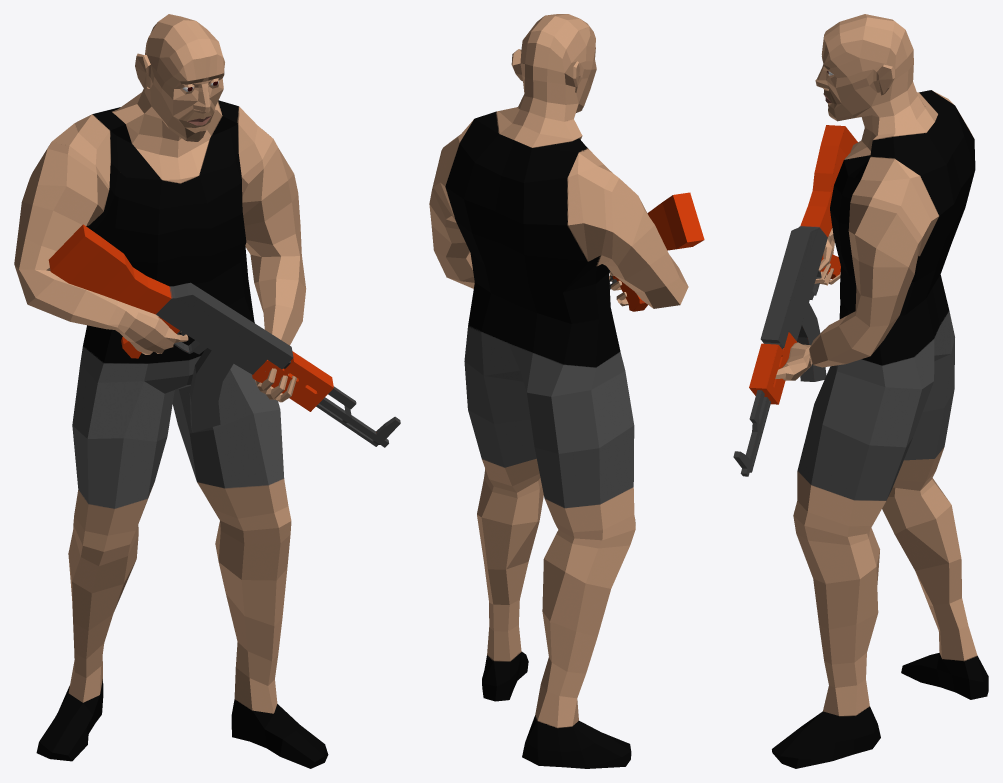
Rendered from PlayerIdle(197).obj.
3 views of the same model, side by side, from view 1: azimuth 30°, elevation 25°; view 2: azimuth 150°, elevation 25°; view 3: azimuth 270°, elevation 25° (orthographic). The views are drawn at different scales.
Visible parts, largest first — view 1: Plane002, Object001; view 2: Plane002, Object001; view 3: Plane002, Object001.
Boxes of the visible parts, bbox=[...] form: Plane002: bbox=[14, 14, 328, 768]; Object001: bbox=[48, 224, 400, 447]; Plane002: bbox=[429, 14, 688, 768]; Object001: bbox=[609, 192, 704, 311]; Plane002: bbox=[772, 14, 988, 768]; Object001: bbox=[733, 125, 857, 476].
Bounding box in the file's own units: 762 × 1798 × 593.
